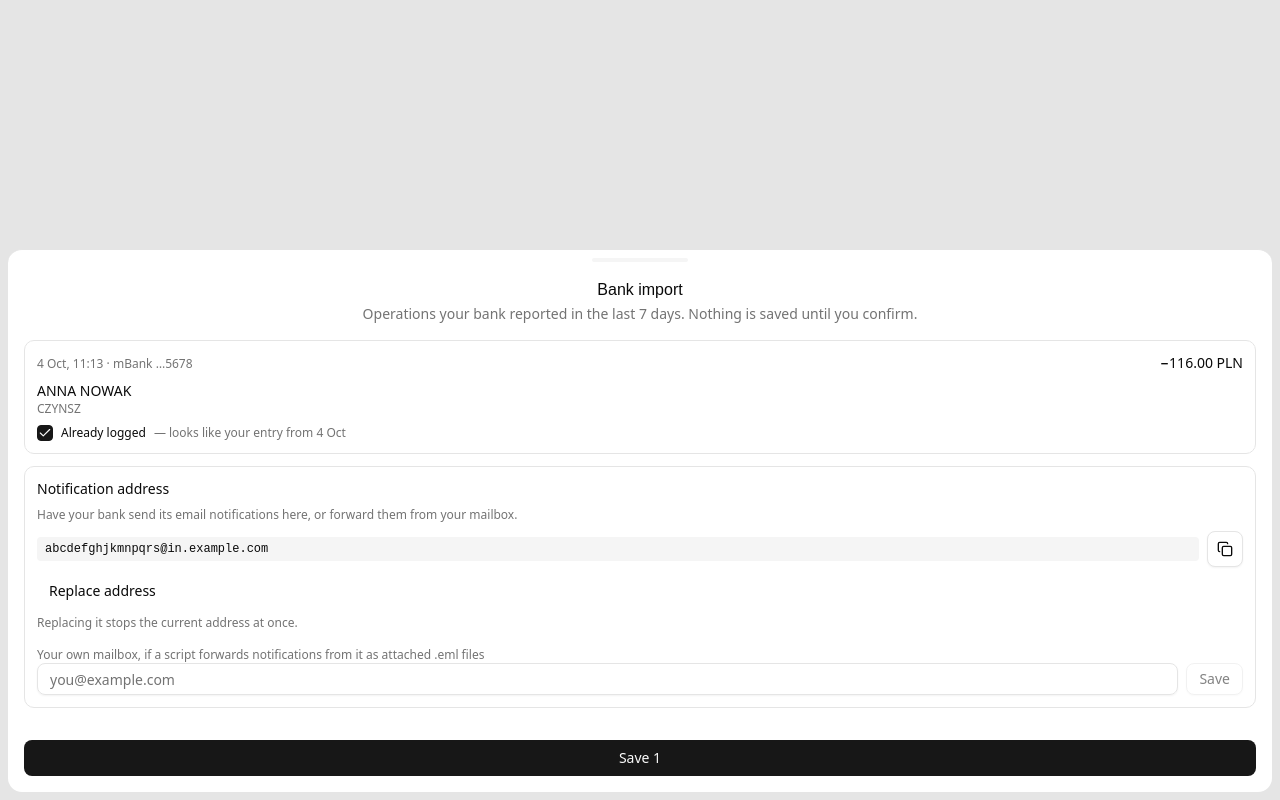
Test: BankImportDrawer › keeps the drawer open and says so when saving fails
Click the button "Save 1": (640, 758) [24,740,1256,776]
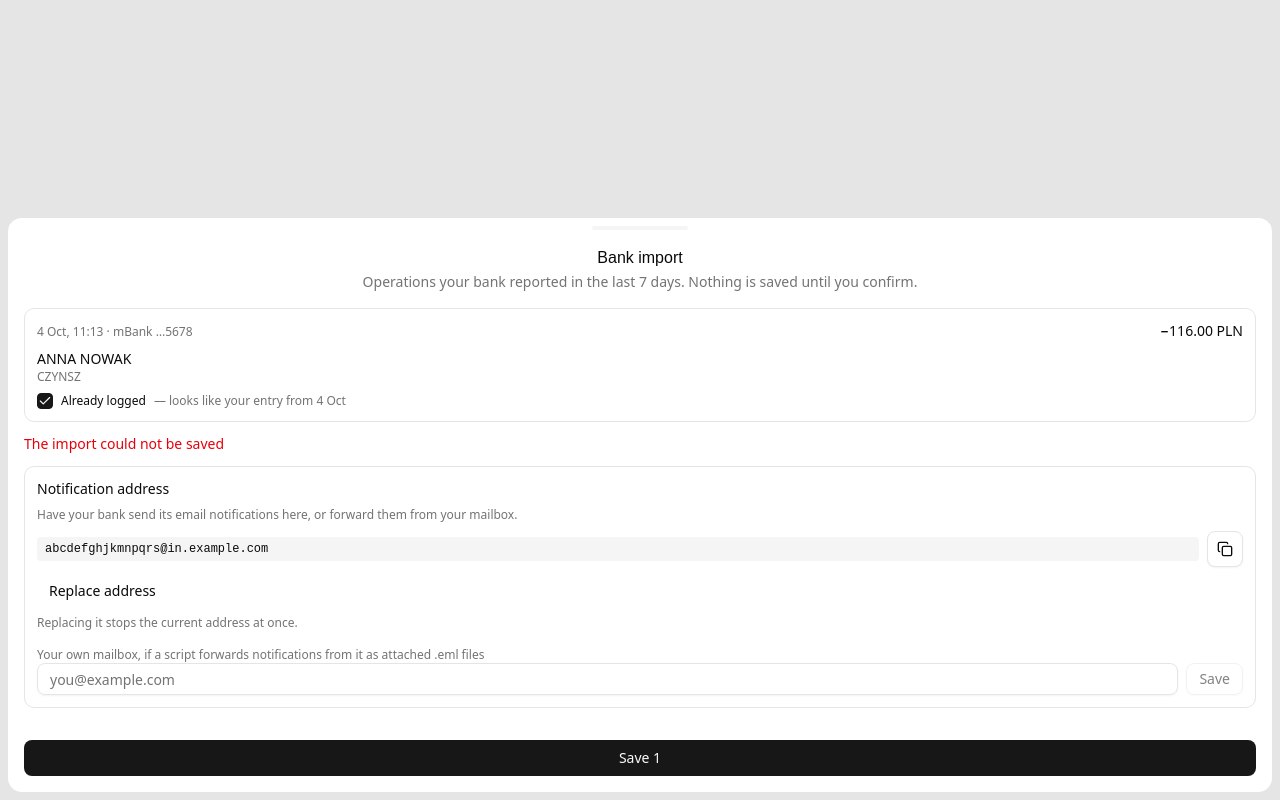
Now the text "The import could not be saved" is shown, box [24,434,224,453]
